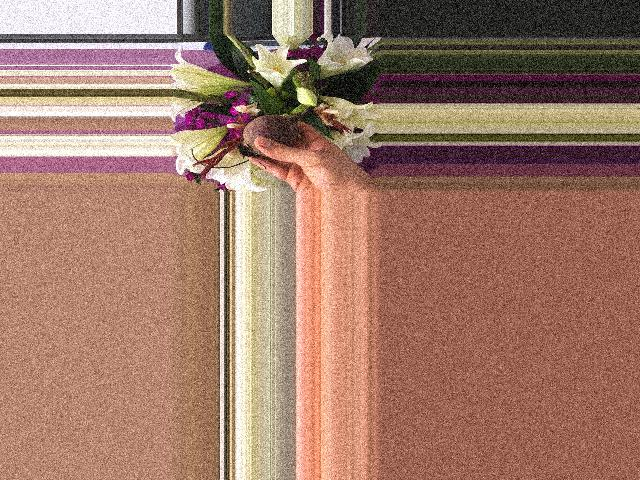beet: (237, 105, 312, 158)
